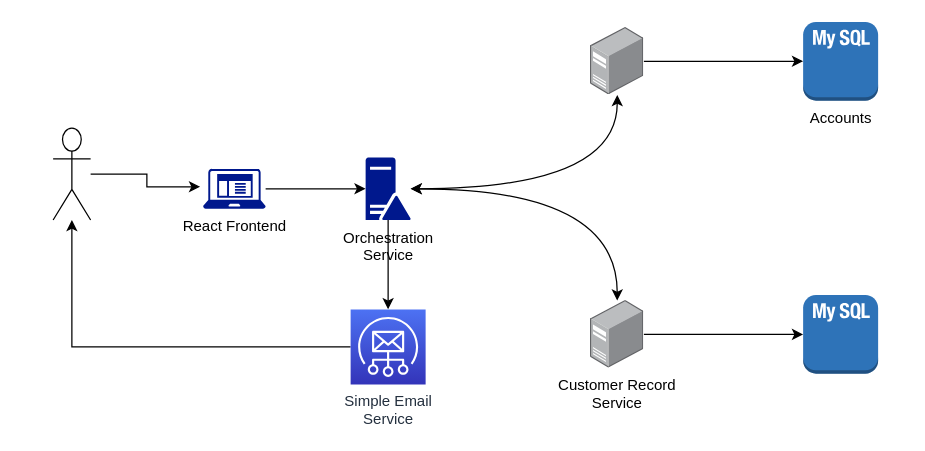
Image size: 925x451. Some labels were removed from this diagram. Here are the shapes that lost their labels. From the top down, the centre of each, then its label:
(616,60): Account/Auth Service
(71,173): Customer User
(840,334): Customer Records
